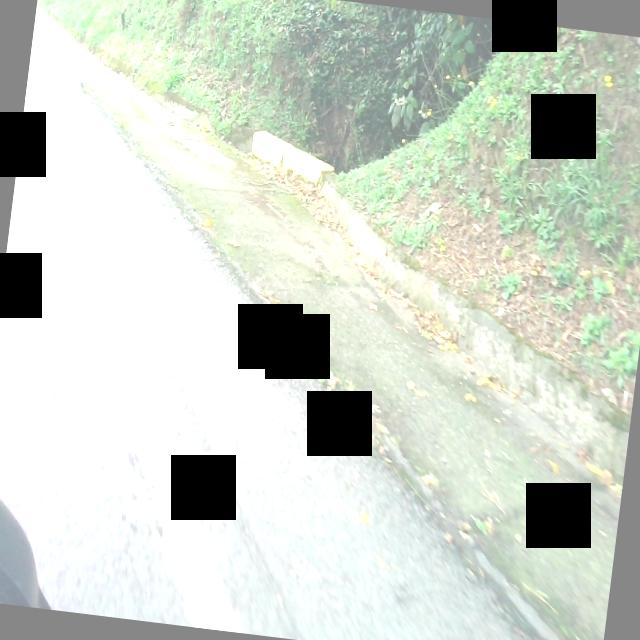DITCH: (0, 1, 640, 640), (0, 24, 640, 640), (39, 39, 640, 640)
